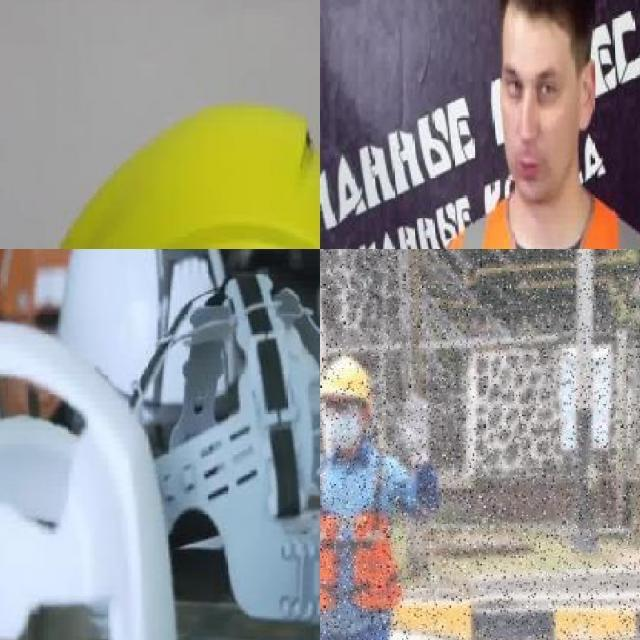apron: (395, 392, 432, 467)
